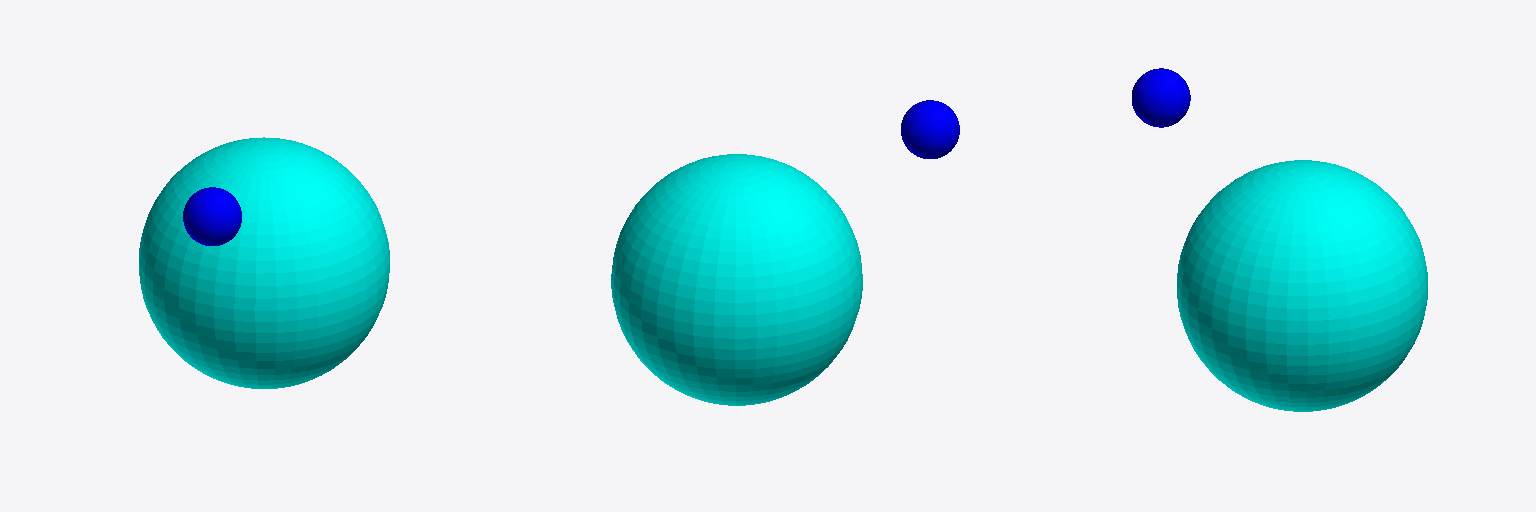
3 views of the same model, side by side, from view 1: azimuth 30°, elevation 25°; view 2: azimuth 150°, elevation 25°; view 3: azimuth 270°, elevation 25° (orthographic).
Visible parts, largest first — view 1: Sphere_Sphere.001, Sphere.001_Sphere.002; view 2: Sphere_Sphere.001, Sphere.001_Sphere.002; view 3: Sphere_Sphere.001, Sphere.001_Sphere.002.
Part boxes in pixels (x1,y1,x2,y2): Sphere_Sphere.001: (139,137,389,388); Sphere.001_Sphere.002: (183,187,241,245); Sphere_Sphere.001: (611,154,862,405); Sphere.001_Sphere.002: (901,100,959,158); Sphere_Sphere.001: (1177,160,1427,411); Sphere.001_Sphere.002: (1132,68,1190,127).
Size of the model in its own units: 0.4711 by 0.4717 by 0.4712.